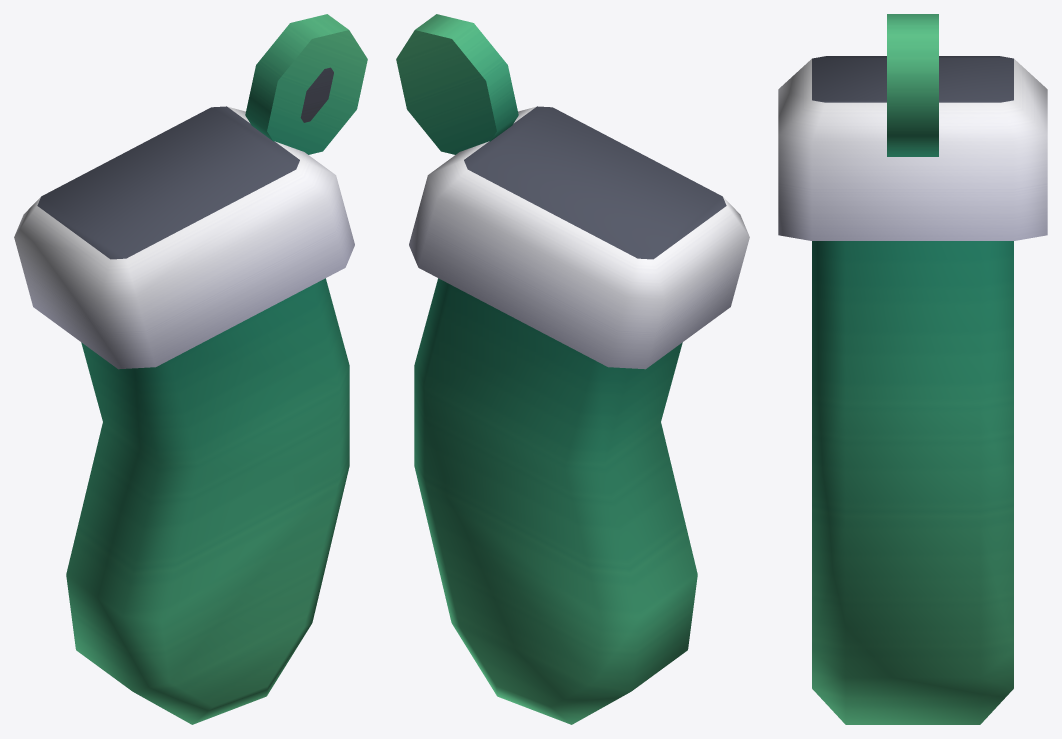
The model's file is cc0-sock-lod0.glb.
3 renders of one model, left to right at view 1: azimuth 30°, elevation 25°; view 2: azimuth 150°, elevation 25°; view 3: azimuth 270°, elevation 25°, orthographic. The views are drawn at different scales.
Visible parts, largest first — view 1: part_0; view 2: part_0; view 3: part_0.
Boxes of the visible parts, x1,y1,x2,y2 form: part_0: [14, 14, 367, 724]; part_0: [396, 14, 749, 724]; part_0: [778, 14, 1047, 724].
Size of the model in its own units: 0.3061 by 0.6229 by 0.2.
Materials: 1 (1 with a texture image).
